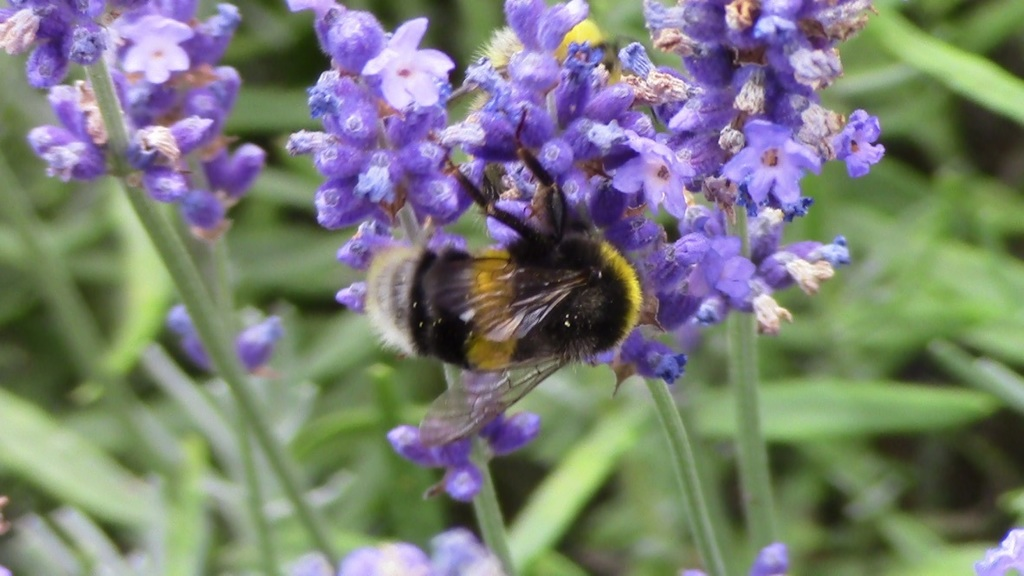bumblebee: (362, 106, 645, 447)
